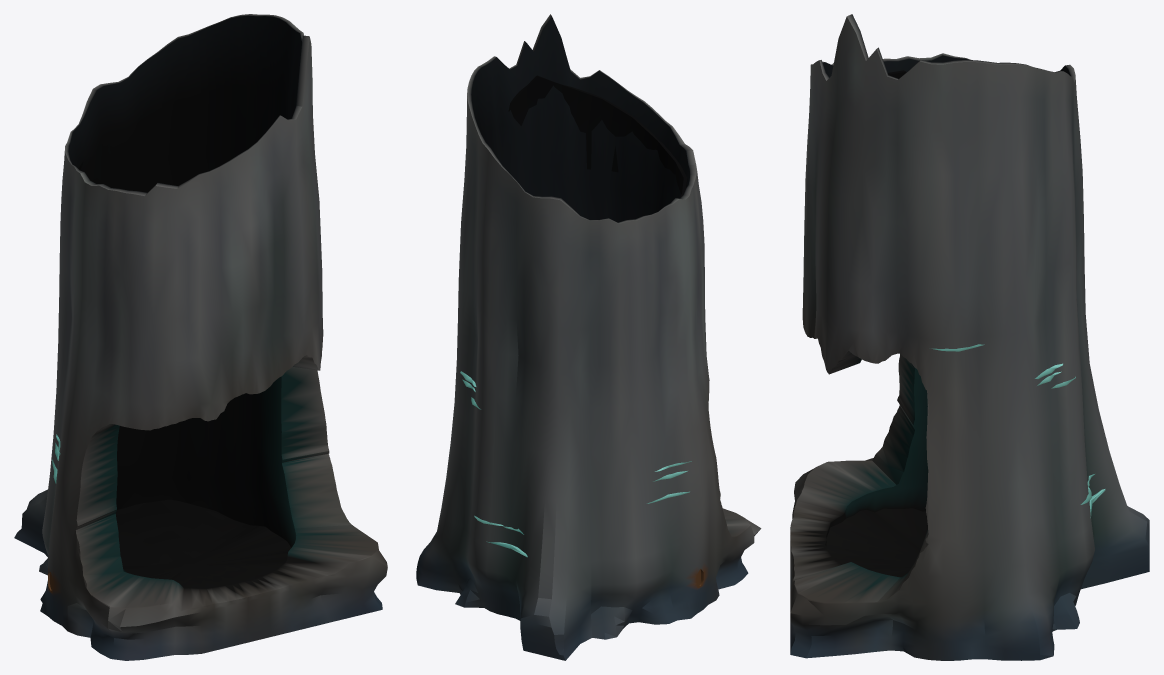
File: hollowbole_moonrise.glb
3 renders of one model, left to right at view 1: azimuth 30°, elevation 25°; view 2: azimuth 150°, elevation 25°; view 3: azimuth 270°, elevation 25°, orthographic. The views are drawn at different scales.
Visible parts, largest first — view 1: towerSkinBoleShell; view 2: towerSkinBoleShell, towerSkinBoleCurtain, towerSkinBoleShelves; view 3: towerSkinBoleShell, towerSkinBoleShelves.
Boxes of the visible parts, x1,y1,x2,y2 form: towerSkinBoleShell: (14, 14, 387, 660); towerSkinBoleShell: (416, 14, 761, 660); towerSkinBoleCurtain: (508, 75, 687, 197); towerSkinBoleShelves: (460, 371, 691, 557); towerSkinBoleShell: (790, 14, 1149, 660); towerSkinBoleShelves: (931, 344, 1105, 518).
Bounding box in the file's own units: 6.15 × 12.29 × 6.52.
